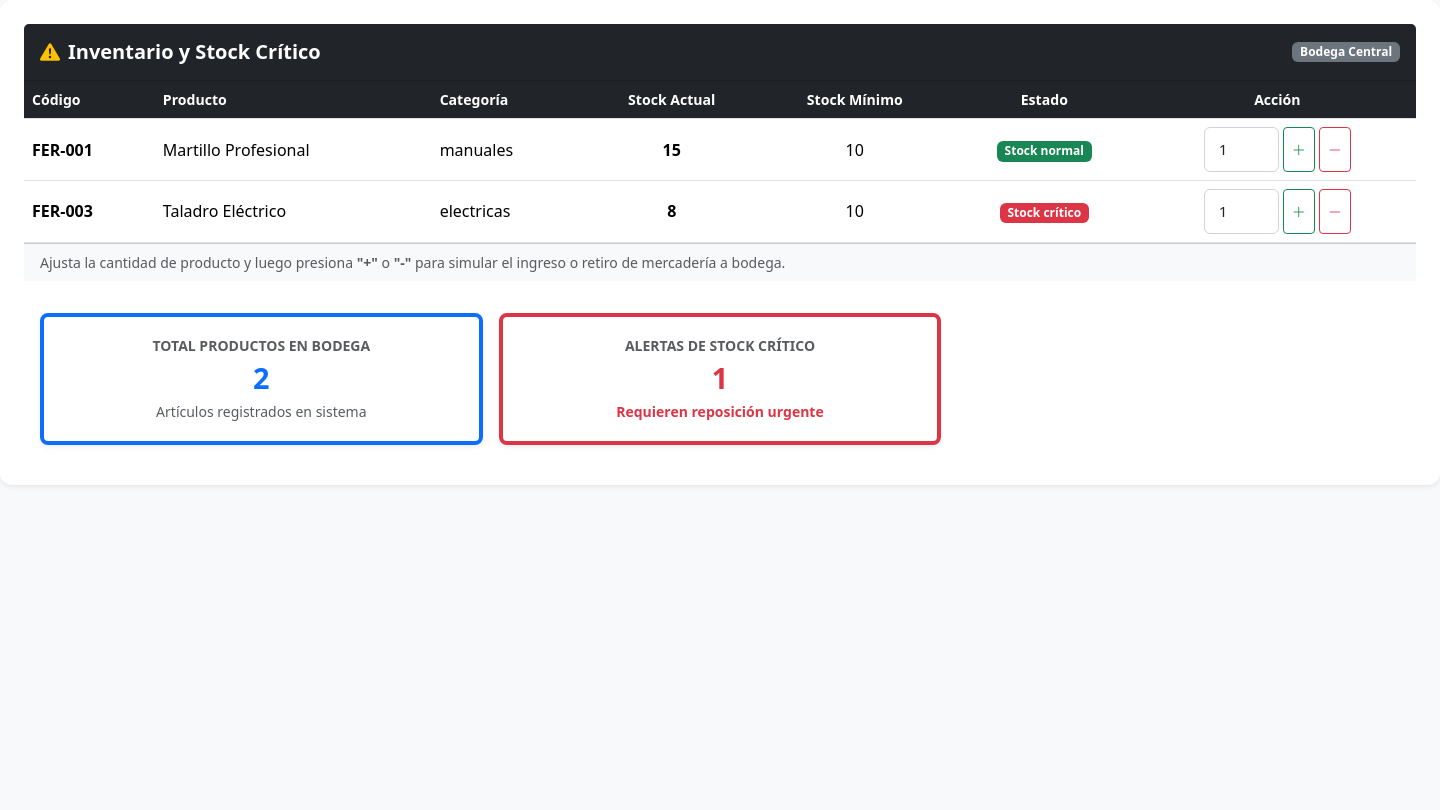
Test: ControlStockAdmin › quita unidades de stock y persiste el cambio
Replace the text in the number field in the row of "FER-003" with "2" at (1241, 211), box [1204,189,1279,234]
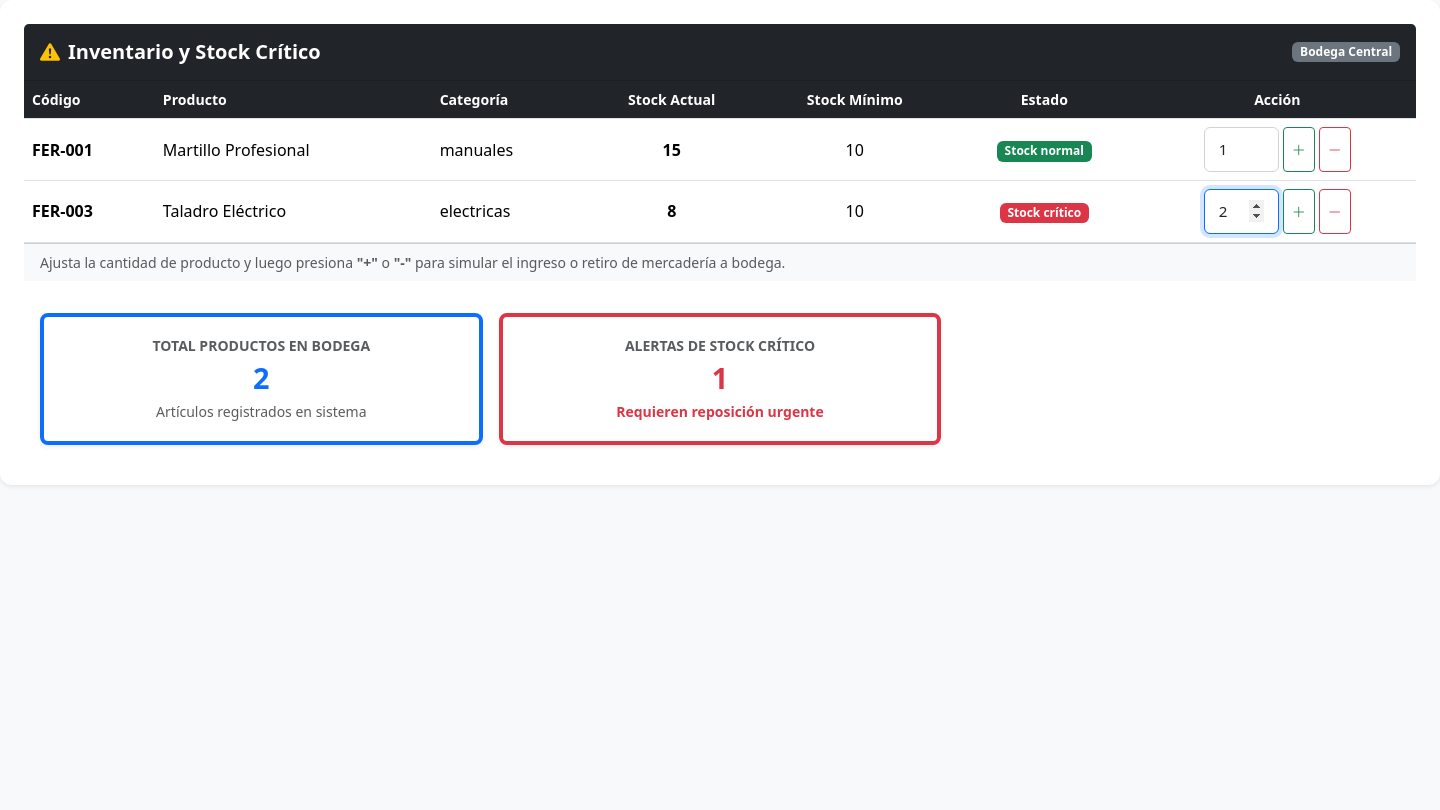
Click the button named "Quitar unidades" in the row of "FER-003" at (1335, 211), box [1319,189,1351,234]
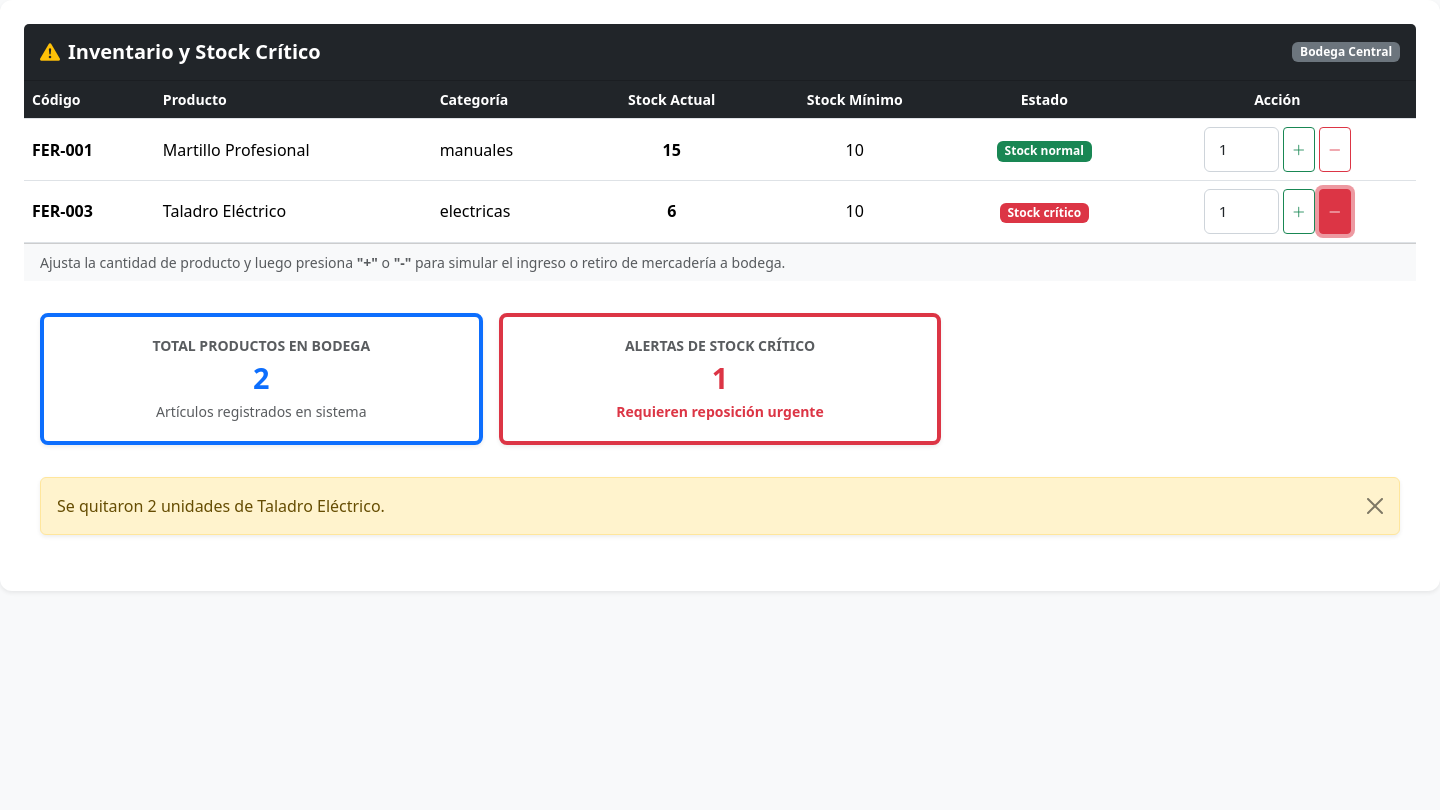
Check: the text "Se quitaron 2 unidades de Taladro Eléctrico." is shown, box [57,495,385,517]
